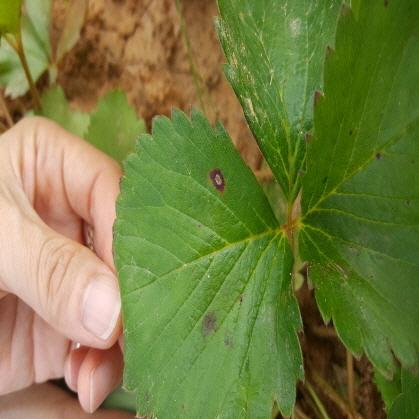Leaf Spot: (110, 105, 304, 418), (298, 0, 418, 381)
